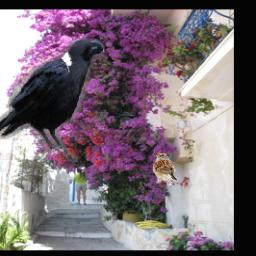Crow: (0, 39, 105, 163)
Sparrow: (153, 152, 178, 185)
